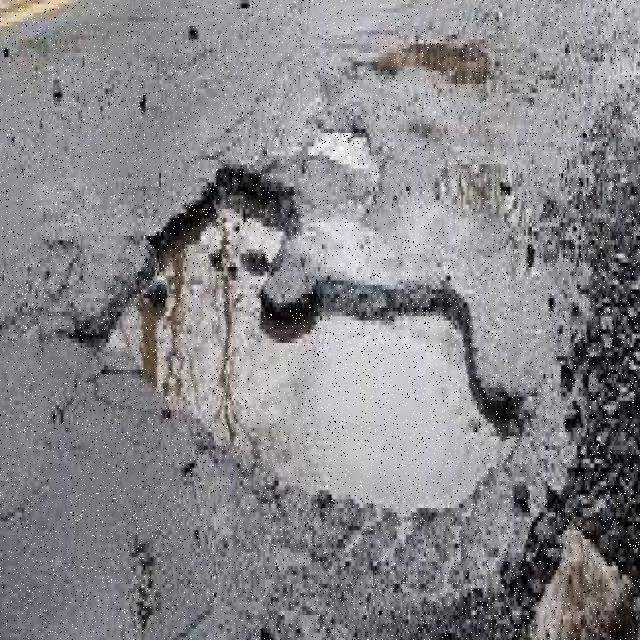pothole: (106, 164, 500, 512)
